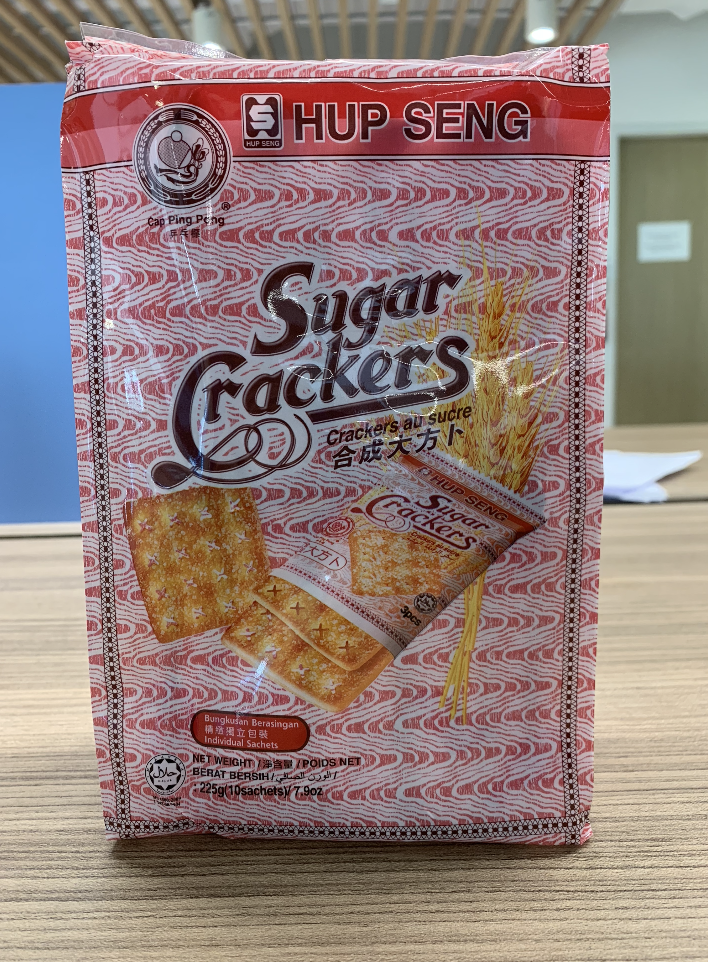crackers_200g-299g: (119, 88, 584, 815)
